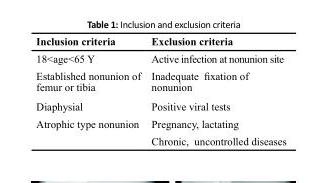table: (35, 34, 285, 146)
table column: (145, 34, 285, 146), (35, 34, 145, 146)
table column header: (35, 34, 285, 49)
table row: (35, 114, 285, 146), (35, 66, 285, 96), (35, 96, 285, 114), (35, 49, 285, 66), (35, 34, 285, 49)
